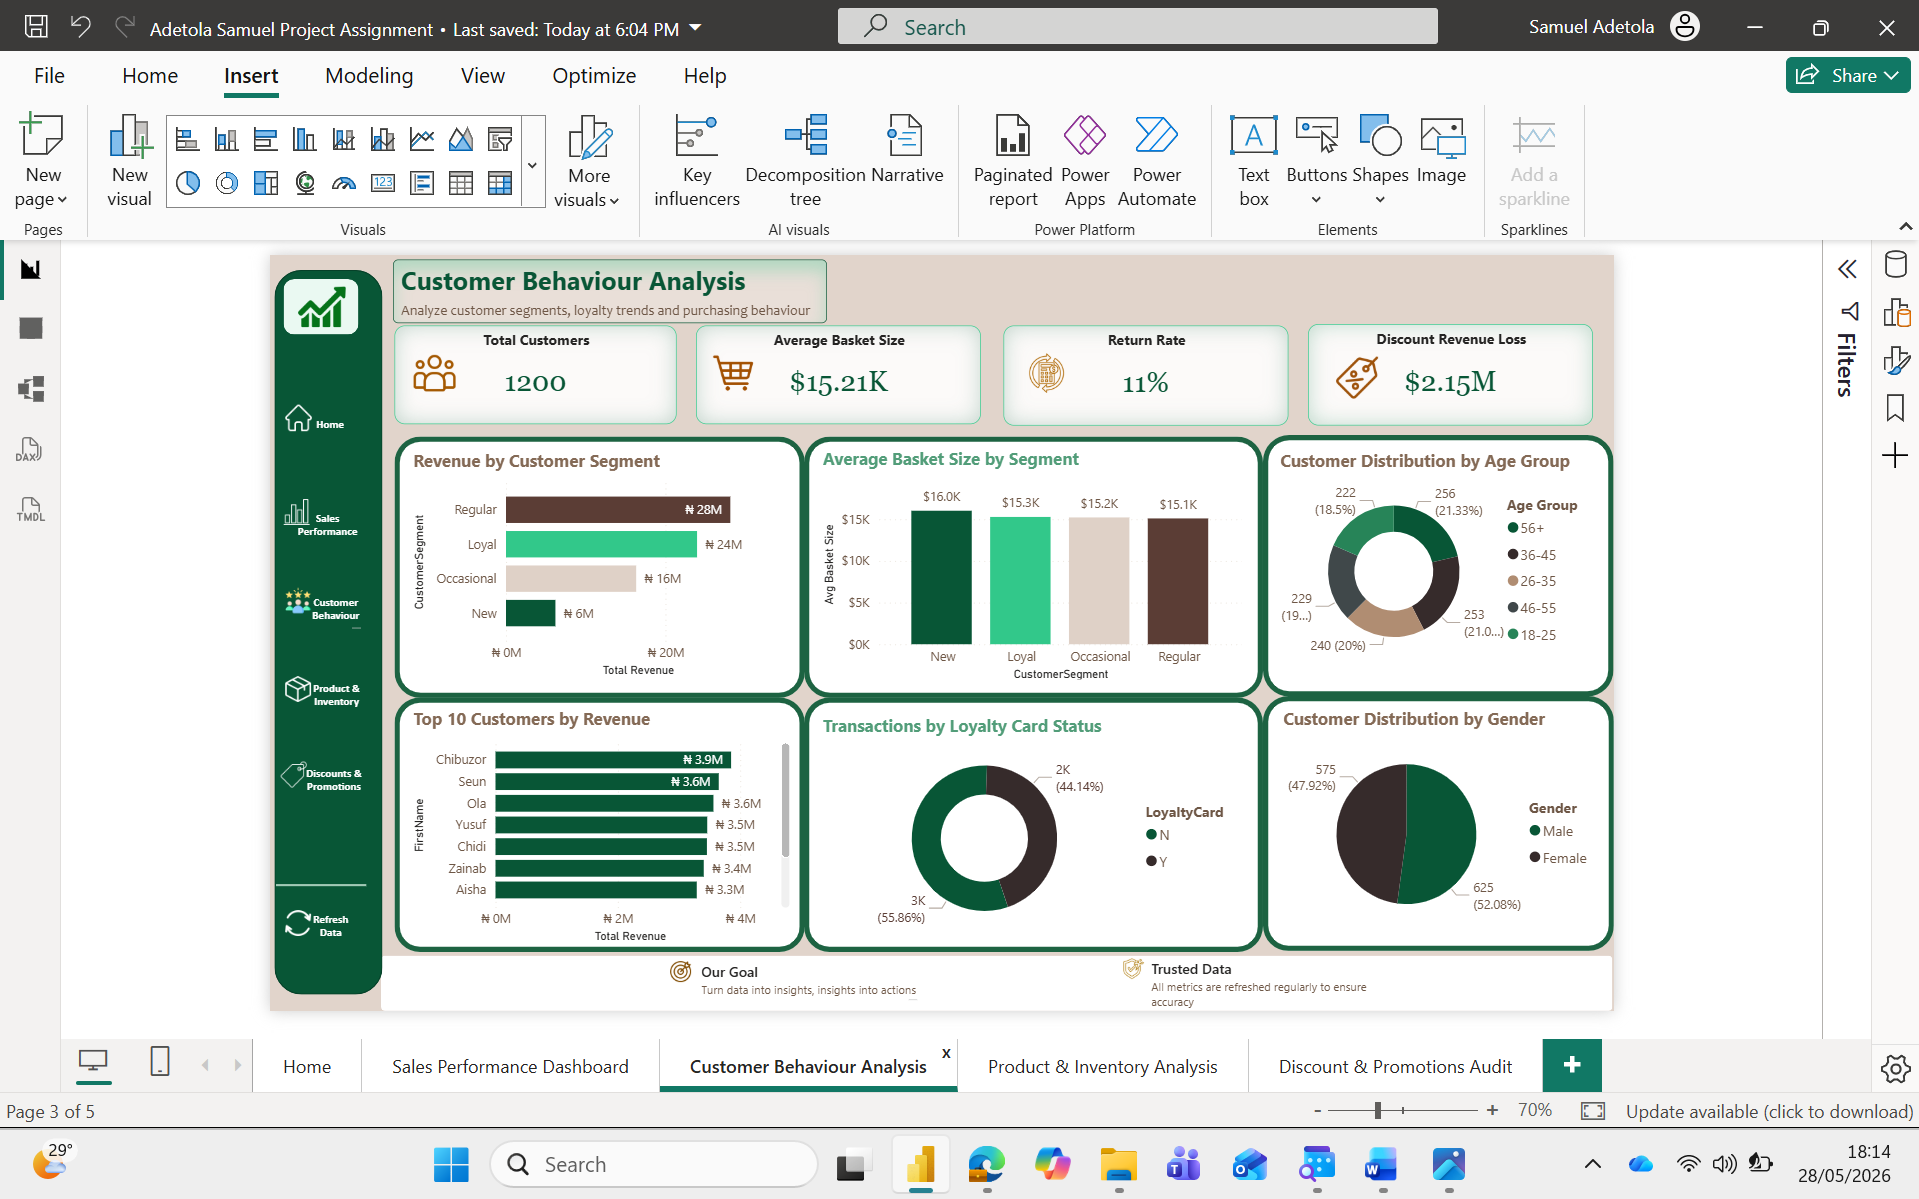

This screenshot's page, from the dashboard's own definition file:
{"tool":"powerbi","page":{"name":"Customer Behaviour Analysis","canvas":[1280,720],"ordinal":2},"visuals":[{"type":"shape","box":[105.7,667.1,1172.9,52.9],"z":0},{"type":"card","title":"Total Customers","fields":{"Values":["Measures (4).Total Customers"]},"box":[117.9,67.6,268.9,94],"z":1000},{"type":"card","title":"Average Basket Size","fields":{"Values":["Measures (4).Avg Basket Size"]},"box":[405.3,67.6,271.5,94],"z":2000},{"type":"card","title":"Return Rate","fields":{"Values":["Measures (4).Return Rate %"]},"box":[698.1,67.6,271.5,95.4],"z":3000},{"type":"card","title":"Discount Revenue Loss","fields":{"Values":["Measures (4).Discount Revenue Loss"]},"box":[988.1,66.2,271.5,96.7],"z":4000},{"type":"textbox","title":"Customer Behaviour Analysis","box":[117.6,4.8,413.2,60.4],"z":5000},{"type":"shape","box":[4.3,14.3,102.9,690],"z":6000},{"type":"image","box":[6.6,136.4,39.7,35.8],"z":7000},{"type":"image","title":"Sales Performance","box":[5.3,226.5,39.7,35],"z":8000},{"type":"image","box":[6.6,311.3,39,35],"z":9000},{"type":"image","box":[6.6,396.1,39,35],"z":10000},{"type":"image","box":[2.6,476.9,39.7,35],"z":11000},{"type":"shape","box":[13.2,22.5,71.5,53],"z":12000},{"type":"image","box":[21.2,19.9,55.6,58.3],"z":13000},{"type":"textbox","title":"Home","box":[6.6,155,100.7,21.2],"z":14000},{"type":"textbox","title":"Sales                                        Performance","box":[18.5,243.7,72.9,25.2],"z":15000},{"type":"textbox","title":"Customer Behaviour","box":[34.4,324.5,57,35.8],"z":16000},{"type":"textbox","title":"Product & Inventory","box":[34.4,405.3,58.3,31.8],"z":17000},{"type":"textbox","title":"Discounts & Promotions","box":[29.1,487.5,64.9,33.1],"z":18000},{"type":"shape","box":[5.3,574.9,86.1,51.7],"z":19000},{"type":"image","box":[6.6,618.6,39,35],"z":20000},{"type":"shape","box":[117.9,172.2,390.8,249],"z":21000},{"type":"textbox","title":"Refresh Data","box":[28.6,626.2,58.8,25.4],"z":22000},{"type":"clusteredBarChart","title":"Revenue by Customer Segment","fields":{"Category":["customers.CustomerSegment"],"Y":["Measures (4).Total Revenue"]},"box":[131.1,184.1,368.2,221.2],"z":23000},{"type":"shape","box":[117.9,421.2,390.8,242.4],"z":24000},{"type":"clusteredBarChart","title":"Top 10 Customers by Revenue","fields":{"Category":["customers.FirstName"],"Y":["Measures (4).Total Revenue"]},"box":[131.1,430.5,368.2,229.2],"z":25000},{"type":"shape","box":[508.6,172.2,437.1,249],"z":26000},{"type":"clusteredColumnChart","title":"Average Basket Size by Segment","fields":{"Category":["customers.CustomerSegment"],"Y":["Measures (4).Avg Basket Size"]},"box":[521.9,182.8,409.3,226.5],"z":27000},{"type":"shape","box":[508.6,421.2,437.1,242.4],"z":28000},{"type":"donutChart","title":"Transactions by Loyalty Card Status","fields":{"Category":["customers.LoyaltyCard"],"Y":["Measures (4).Total Transactions"]},"box":[521.9,437.1,409.3,214.6],"z":29000},{"type":"shape","box":[945.8,170.9,333.8,249],"z":30000},{"type":"donutChart","title":"Customer Distribution by Age Group","fields":{"Category":["customers.Age Group"],"Y":["Measures (4).Total Customers"]},"box":[957.7,184.1,312.6,211.9],"z":31000},{"type":"shape","box":[945.7,420,334.3,242.9],"z":32000},{"type":"pieChart","title":"Customer Distribution by Gender","fields":{"Category":["customers.Gender"],"Y":["Measures (4).Total Customers"]},"box":[960.3,430.5,310,221.2],"z":33000},{"type":"image","box":[131.4,87.1,50,50],"z":34000},{"type":"image","box":[714.3,87.1,50,50],"z":35000},{"type":"image","box":[415.7,87.1,50,50],"z":36000},{"type":"image","box":[1010,91.4,50,50],"z":37000},{"type":"textbox","title":"Our Goal","box":[405.7,672.9,215.7,41.4],"z":38000},{"type":"textbox","title":"Trusted Data","box":[834.3,670,220,48.6],"z":39000},{"type":"image","box":[807.1,664.3,30,30],"z":39001},{"type":"image","box":[375.7,667.1,30,30],"z":39002}]}

Visuals, with their boxes on the page's 1280x720 design canvas (x1, y1, x2, y2). These are canvas units, not pixel positions in the 1919x1199 screenshot, which may show the page scaled, cropped or inside an application window:
shape: 106/667/1279/720
"Total Customers" card: 118/68/387/162
"Average Basket Size" card: 405/68/677/162
"Return Rate" card: 698/68/970/163
"Discount Revenue Loss" card: 988/66/1260/163
"Customer Behaviour Analysis" textbox: 118/5/531/65
shape: 4/14/107/704
image: 7/136/46/172
"Sales Performance" image: 5/226/45/262
image: 7/311/46/346
image: 7/396/46/431
image: 3/477/42/512
shape: 13/22/85/76
image: 21/20/77/78
"Home" textbox: 7/155/107/176
"Sales                                        Performance" textbox: 18/244/91/269
"Customer Behaviour" textbox: 34/324/91/360
"Product & Inventory" textbox: 34/405/93/437
"Discounts & Promotions" textbox: 29/488/94/521
shape: 5/575/91/627
image: 7/619/46/654
shape: 118/172/509/421
"Refresh Data" textbox: 29/626/87/652
"Revenue by Customer Segment" clusteredBarChart: 131/184/499/405
shape: 118/421/509/664
"Top 10 Customers by Revenue" clusteredBarChart: 131/430/499/660
shape: 509/172/946/421
"Average Basket Size by Segment" clusteredColumnChart: 522/183/931/409
shape: 509/421/946/664
"Transactions by Loyalty Card Status" donutChart: 522/437/931/652
shape: 946/171/1280/420
"Customer Distribution by Age Group" donutChart: 958/184/1270/396
shape: 946/420/1280/663
"Customer Distribution by Gender" pieChart: 960/430/1270/652
image: 131/87/181/137
image: 714/87/764/137
image: 416/87/466/137
image: 1010/91/1060/141
"Our Goal" textbox: 406/673/621/714
"Trusted Data" textbox: 834/670/1054/719
image: 807/664/837/694
image: 376/667/406/697
